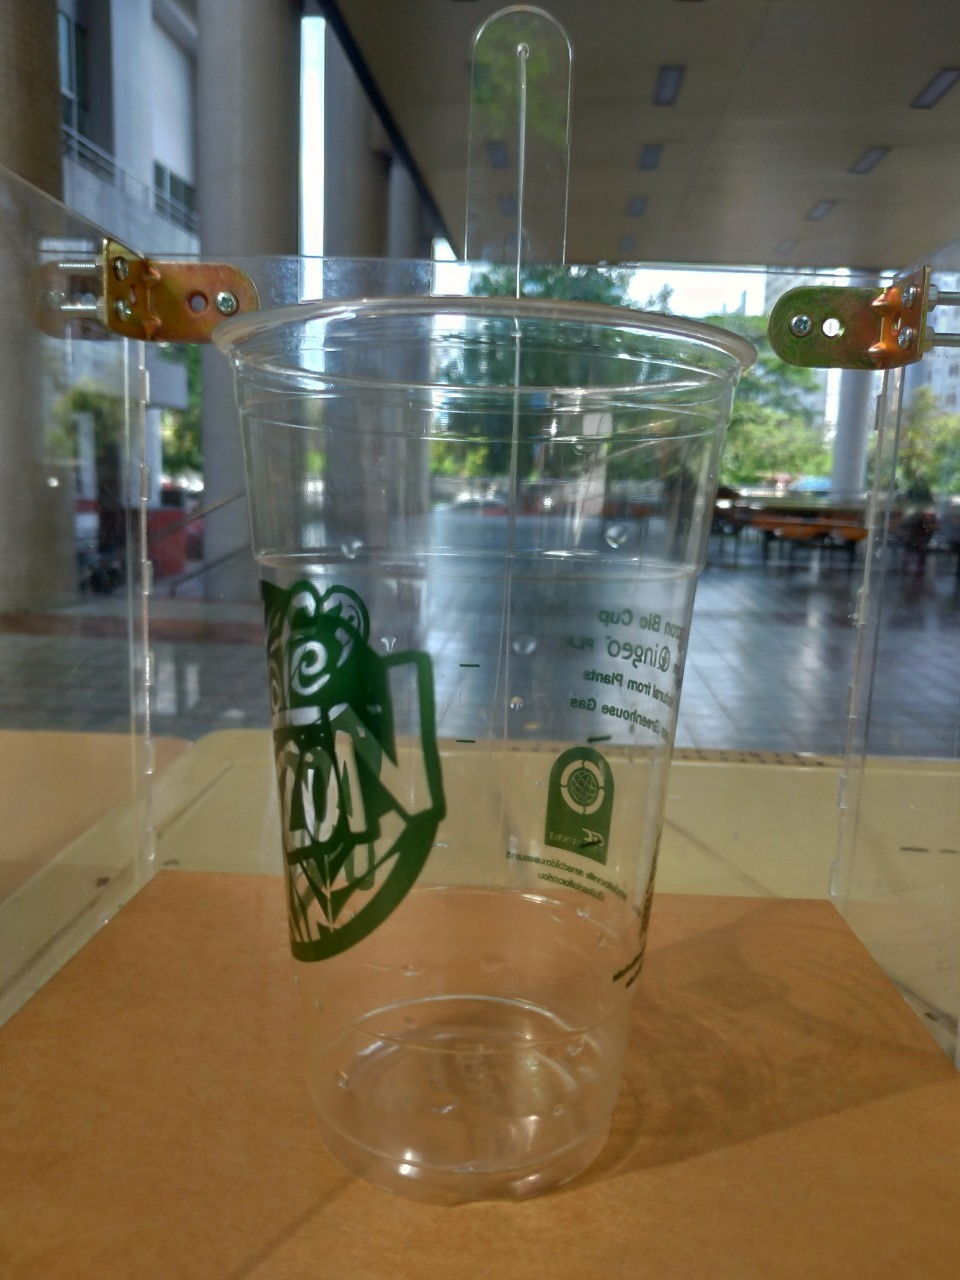PlasticCup: (210, 298, 757, 1200)
